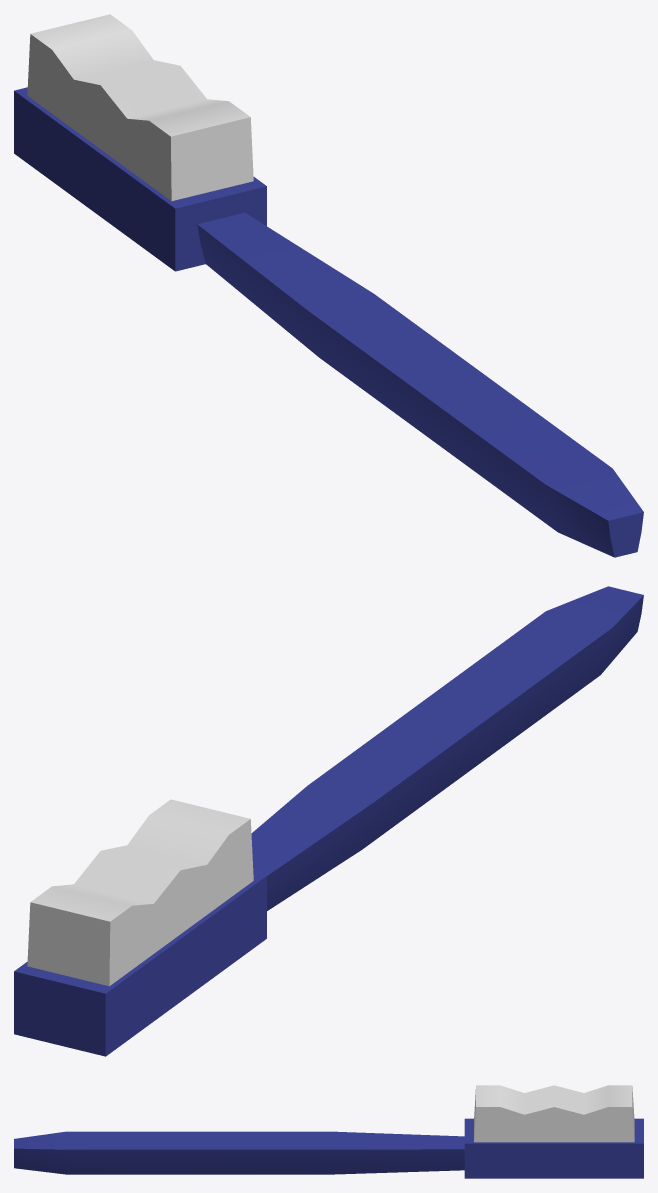
The model's file is Toothbrush.fbx.
The picture shows the model from 3 angles, top to bottom: view 1: azimuth 30°, elevation 25°; view 2: azimuth 150°, elevation 25°; view 3: azimuth 270°, elevation 25°; orthographic projection. The views are drawn at different scales.
Parts seen in each view (by area): view 1: pCube1; view 2: pCube1; view 3: pCube1.
Boxes of the visible parts, x1=… form: pCube1: x1=14, y1=14, x2=643, y2=557; pCube1: x1=14, y1=586, x2=643, y2=1056; pCube1: x1=14, y1=1085, x2=643, y2=1178.
Bounding box in the file's own units: 0.1656 × 0.225 × 1.77.
